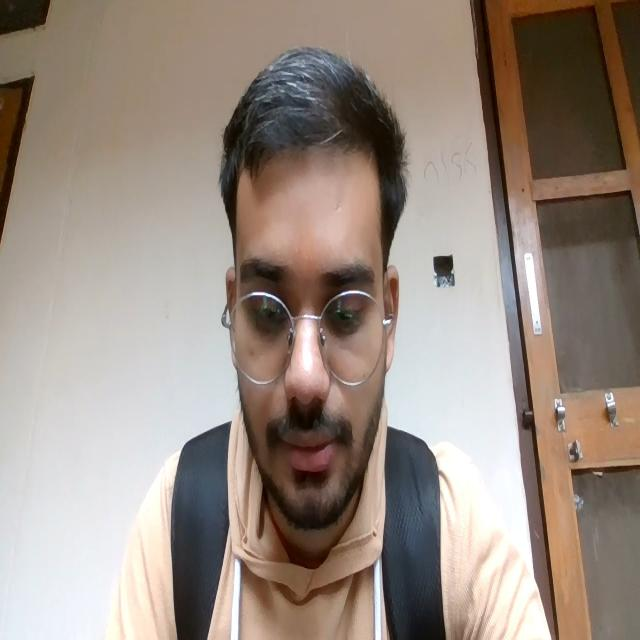drowsy: (227, 246, 382, 522)
